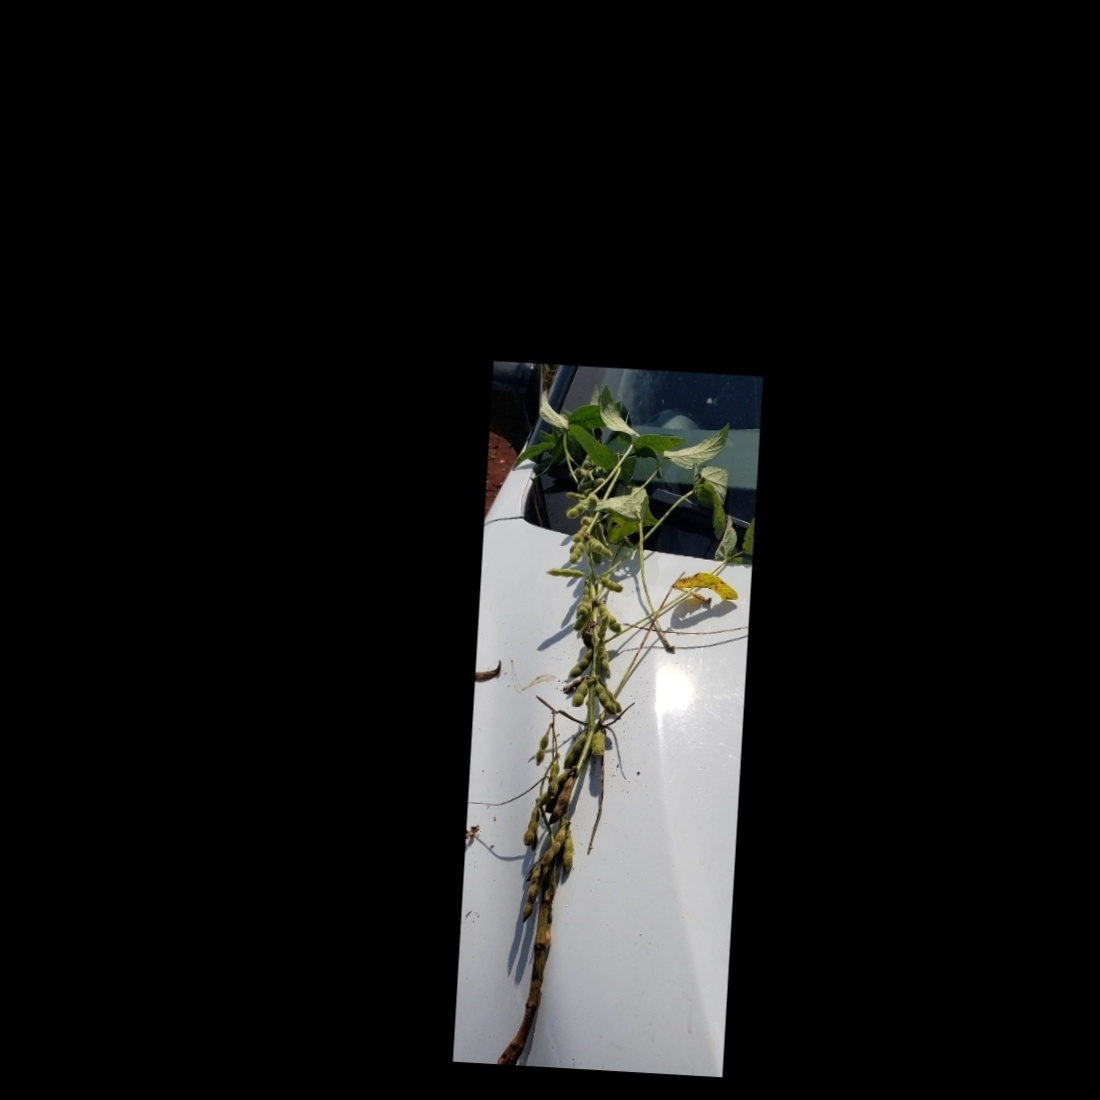pod: (513, 866, 543, 924), (544, 773, 572, 825), (540, 823, 570, 868), (590, 677, 620, 717), (567, 646, 596, 680), (543, 561, 588, 581), (521, 807, 542, 849), (532, 726, 552, 769), (568, 676, 589, 712), (586, 727, 608, 759), (558, 837, 576, 874), (566, 539, 588, 567), (597, 573, 626, 594), (563, 500, 588, 521)
soy: (468, 384, 740, 1063)
